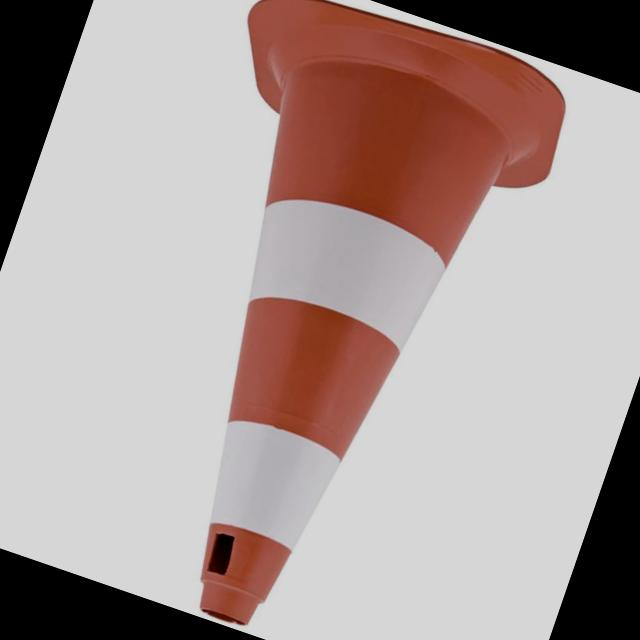cone: (22, 0, 590, 640)
